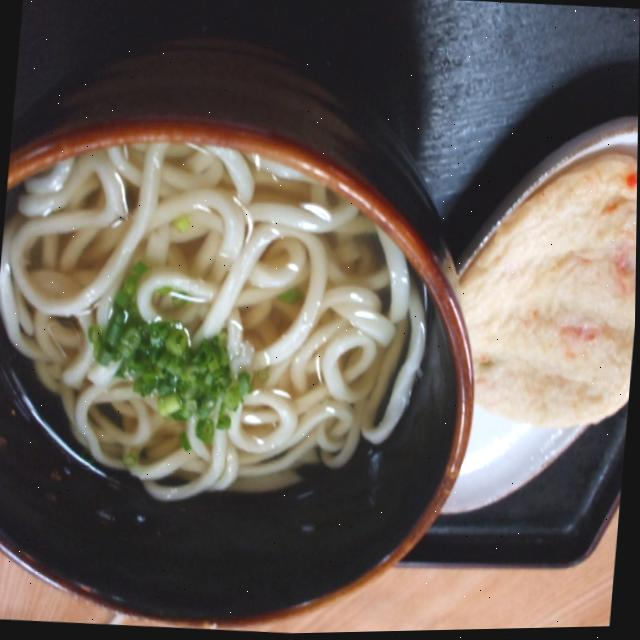面条主食: (0, 80, 473, 588)
